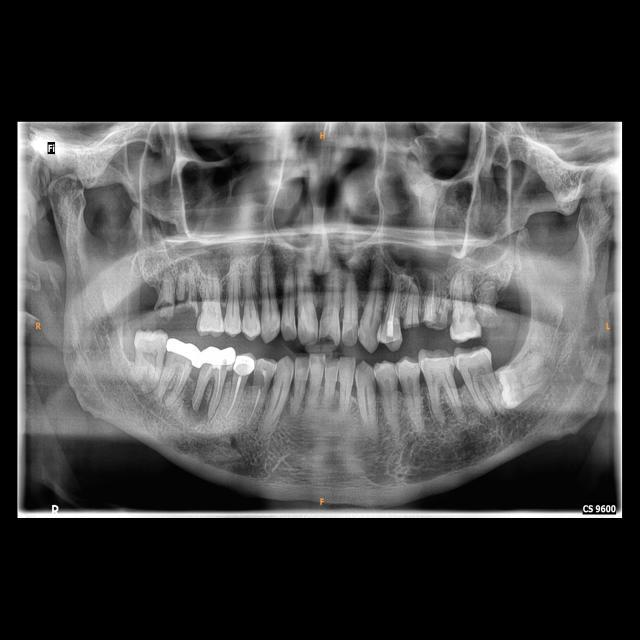dentin-curugu: (174, 293, 198, 317), (155, 298, 175, 318), (253, 370, 266, 395), (430, 311, 447, 330), (318, 331, 338, 346)
dolgu: (380, 319, 400, 346)
kanal-tedavisi: (194, 367, 222, 410), (228, 375, 242, 417), (385, 286, 401, 322), (248, 389, 263, 426), (174, 368, 187, 398), (428, 274, 436, 313)
kaplama: (169, 337, 202, 366), (198, 349, 234, 368), (233, 355, 256, 377)
